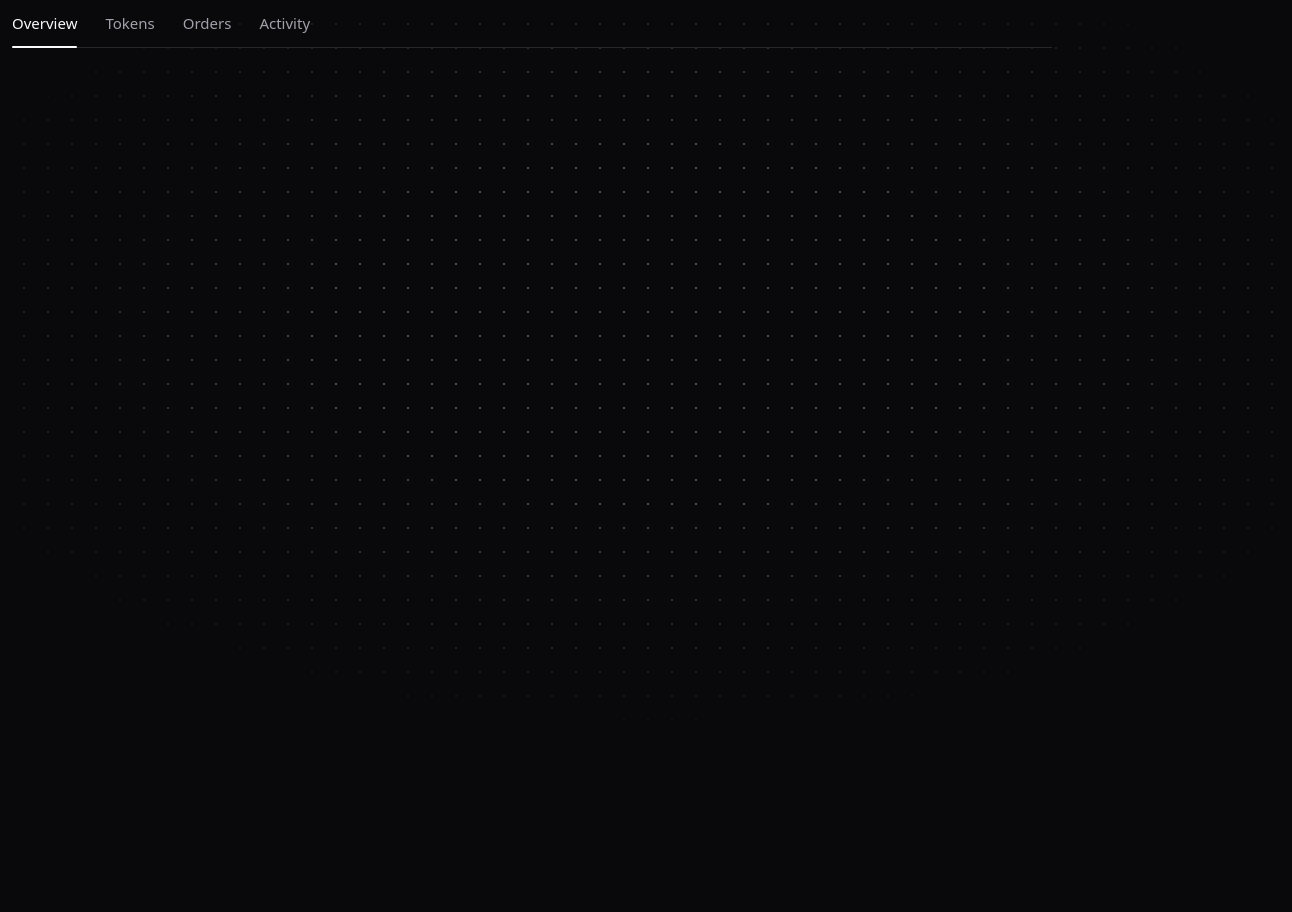
Scenario: shows a fully executed same-transaction limit order only as a fill
Click the tab "Activity": coordinates (285, 29) [259,12,310,46]
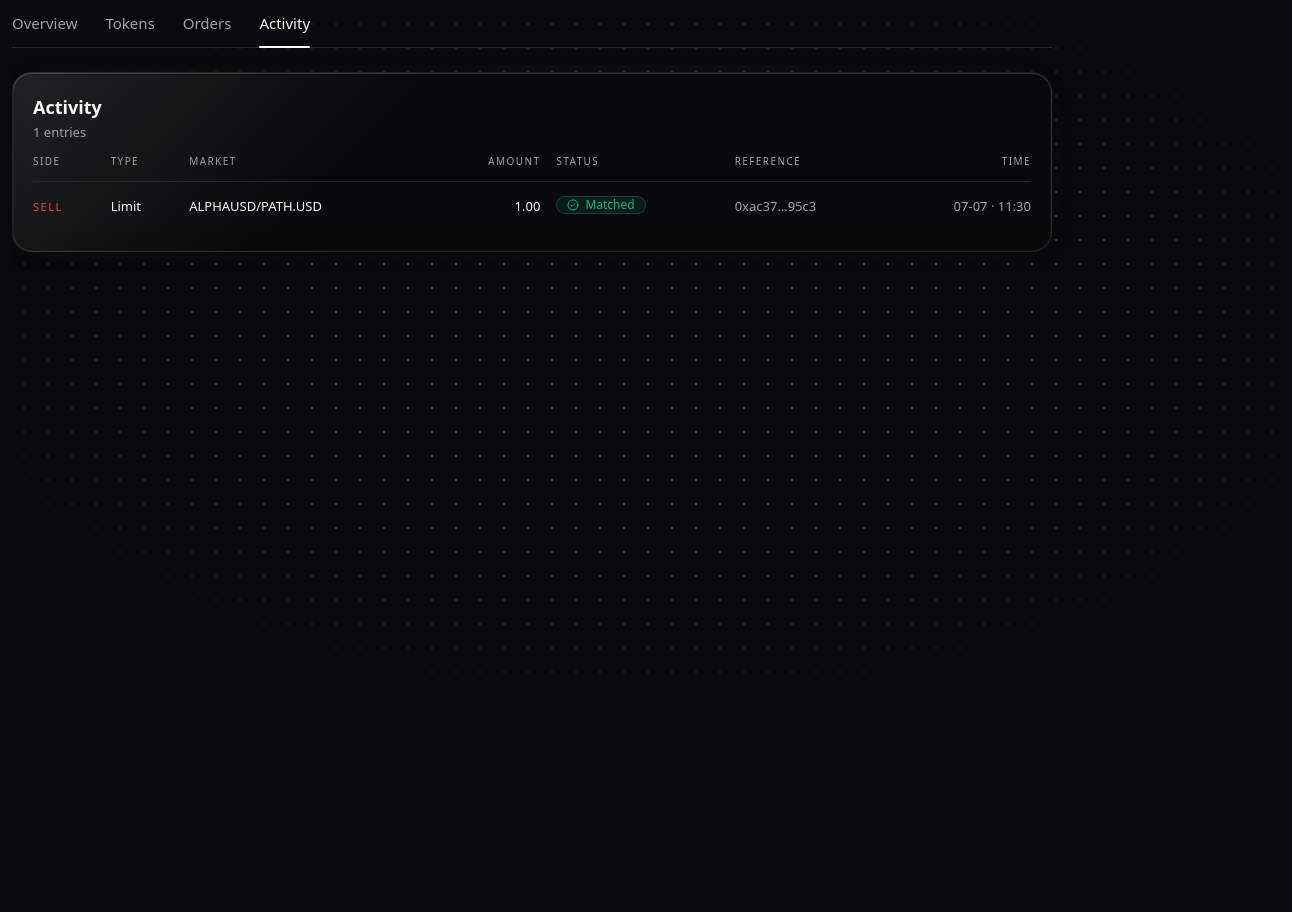
expect the text "1 entries" is shown: met, box [33,122,86,140]
expect the text "ALPHAUSD/PATH.USD" is shown once: met, box [189,182,441,230]
expect the text "Matched" is shown: met, box [585,199,635,211]
